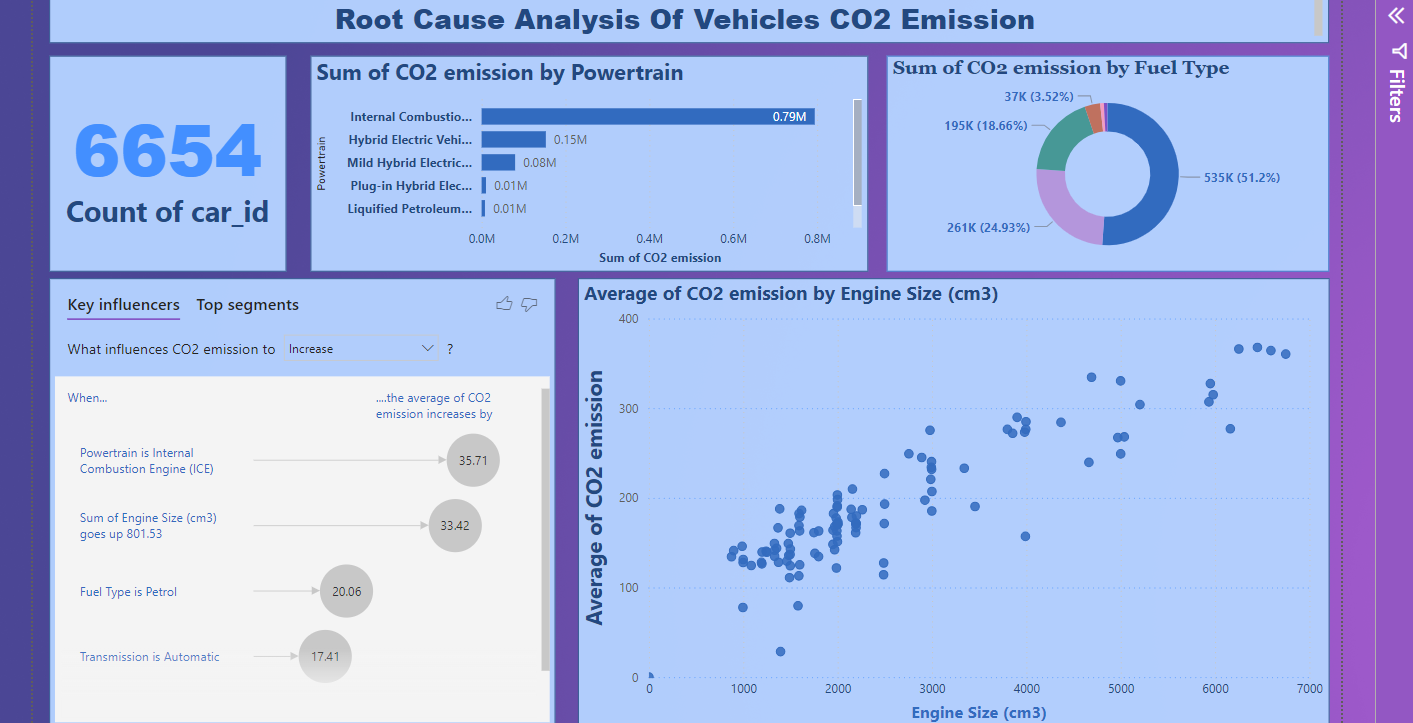

The dashboard page shown, as its layout file describes it:
{"tool":"powerbi","page":{"name":"Page 1","canvas":[1280,720],"ordinal":0},"visuals":[{"type":"card","fields":{"Values":["CountNonNull(Vehicles.car_id)"]},"box":[15.9,62.4,232.3,211.6],"z":0},{"type":"keyDriversVisual","fields":{"Target":["Vehicles.CO2 emission"],"ExplainBy":["Vehicles.Engine Size (cm3) (bins)","Sum(Vehicles.Engine Size (cm3))","Vehicles.Fuel Type","Vehicles.Powertrain","Vehicles.Transmission"]},"box":[15.9,280,495.2,440.2],"z":1000},{"type":"scatterChart","fields":{"Y":["Avg(Vehicles.CO2 emission)"],"X":["Vehicles.Engine Size (cm3)"]},"box":[533.2,280,734.9,440.2],"z":2000},{"type":"donutChart","fields":{"Category":["Vehicles.Fuel Type"],"Y":["Sum(Vehicles.CO2 emission)"]},"box":[835.2,62.4,432.9,211.6],"z":3000},{"type":"textbox","box":[15.9,1.2,1252.2,48.9],"z":4000},{"type":"clusteredBarChart","fields":{"Category":["Vehicles.Powertrain"],"Y":["Sum(Vehicles.CO2 emission)"]},"box":[271.5,62.4,545.4,211.6],"z":5000}]}

Visuals, with their boxes in screenshot pixels (x1, y1, x2, y2):
card - CountNonNull(Vehicles.car_id): [x1=46, y1=53, x2=284, y2=270]
keyDriversVisual - Vehicles.CO2 emission x Vehicles.Engine Size (cm3) (bins): [x1=46, y1=276, x2=553, y2=722]
scatterChart - Avg(Vehicles.CO2 emission) x Vehicles.Engine Size (cm3): [x1=576, y1=276, x2=1328, y2=722]
donutChart - Vehicles.Fuel Type x Sum(Vehicles.CO2 emission): [x1=885, y1=53, x2=1328, y2=270]
textbox: [x1=46, y1=0, x2=1328, y2=40]
clusteredBarChart - Vehicles.Powertrain x Sum(Vehicles.CO2 emission): [x1=307, y1=53, x2=866, y2=270]
